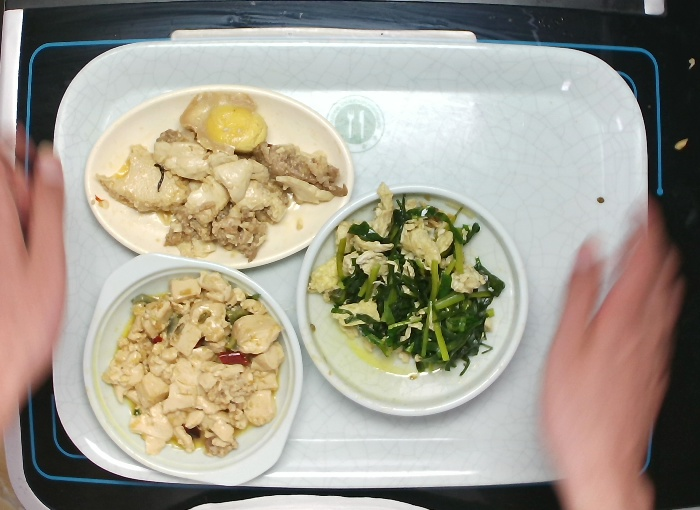JYsf-Shuang_Er_Pan: (75, 247, 309, 487)
JYsf-Tuo_Yuan_Wan: (80, 76, 360, 271)
JYsf-Xiao_Yuan_Pan: (292, 179, 531, 422)
